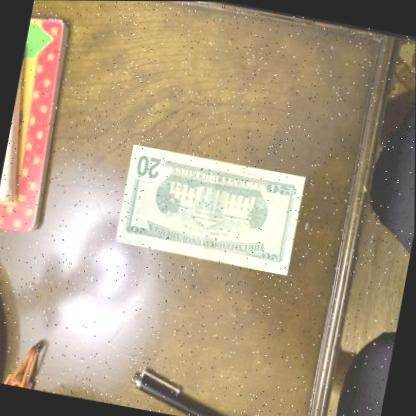dollar_back: (115, 140, 307, 273)
